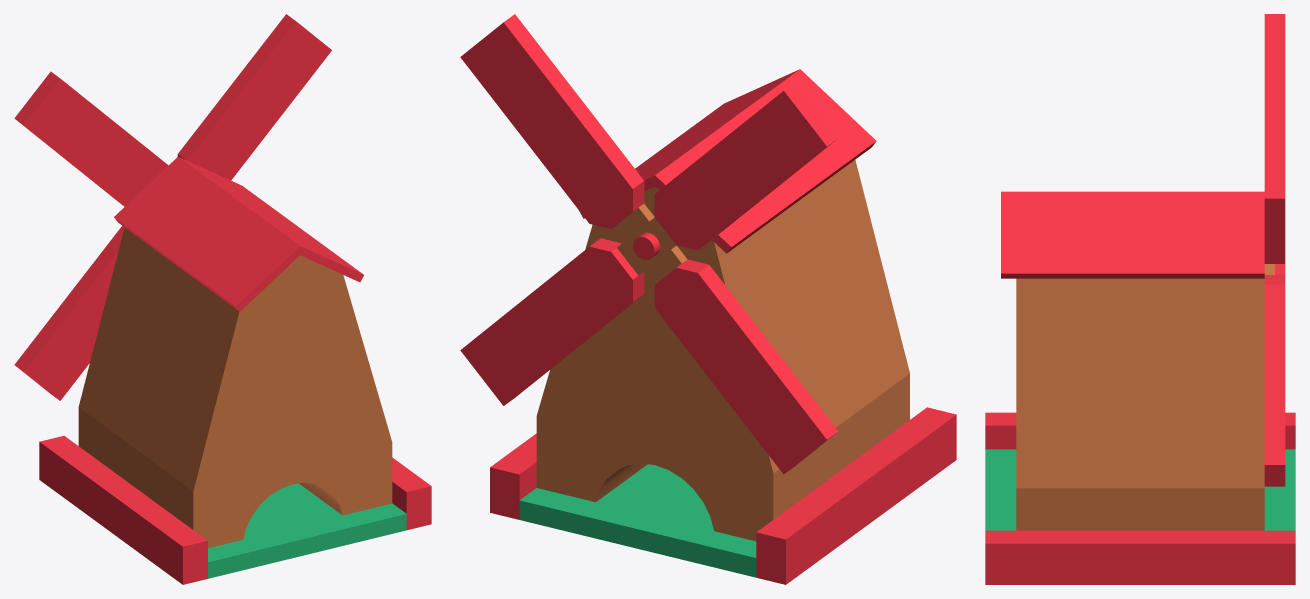
File: windmill.fbx
The picture shows the model from 3 angles, left to right: view 1: azimuth 30°, elevation 25°; view 2: azimuth 150°, elevation 25°; view 3: azimuth 270°, elevation 25°; orthographic projection. The views are drawn at different scales.
Visible parts, largest first — view 1: windmill, blades; view 2: windmill, blades; view 3: windmill, blades.
Boxes of the visible parts, x1=… form: windmill: x1=39, y1=156, x2=431, y2=584; blades: x1=14, y1=14, x2=331, y2=400; windmill: x1=490, y1=69, x2=956, y2=584; blades: x1=460, y1=14, x2=838, y2=474; windmill: x1=985, y1=191, x2=1295, y2=584; blades: x1=1264, y1=14, x2=1285, y2=486.
Bounding box in the file's own units: 12.4 × 15.77 × 10.
